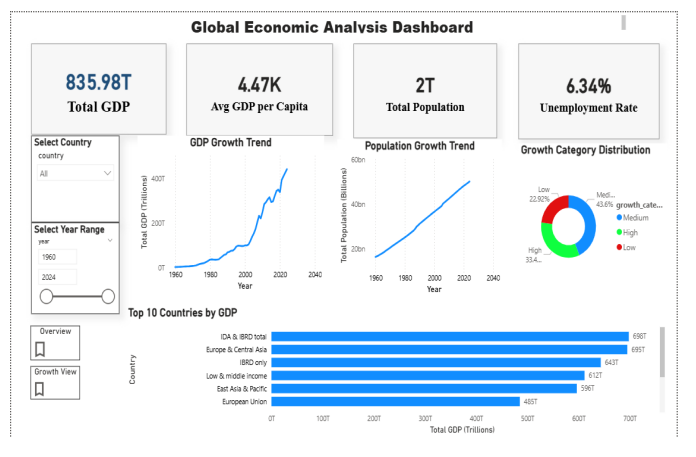

What the dashboard file says about the page in this screenshot:
{"tool":"powerbi","page":{"name":"Dashboard","canvas":[1280,720],"ordinal":1},"visuals":[{"type":"textbox","box":[56.2,0,1131.2,40],"z":0},{"type":"card","fields":{"Values":["Avg(cleaned_world_bank_data.gdp_per_capita)"]},"box":[335.9,52.6,281.7,156.3],"z":0,"group":"g1"},{"type":"group","id":"g1","title":"Group 1","box":[37.9,52.6,1206.9,161.4],"z":1000},{"type":"card","fields":{"Values":["cleaned_world_bank_data.Avg Unemployment %"]},"box":[974.6,52.6,270.9,161.7],"z":1000,"group":"g1"},{"type":"card","fields":{"Values":["Sum(cleaned_world_bank_data.population)"]},"box":[657.9,52.6,276.3,160.4],"z":2000,"group":"g1"},{"type":"lineChart","title":"GDP Growth Trend","fields":{"Category":["cleaned_world_bank_data.year"],"Y":["Sum(cleaned_world_bank_data.gdp)"]},"box":[243.3,209.1,359.5,267.8],"z":2000},{"type":"card","fields":{"Values":["Sum(cleaned_world_bank_data.gdp)"]},"box":[37.9,52.6,260.1,153.6],"z":3000,"group":"g1"},{"type":"lineChart","title":"Population Growth Trend","fields":{"Category":["cleaned_world_bank_data.year"],"Y":["Sum(cleaned_world_bank_data.population)"]},"box":[627.3,214,317.9,267.8],"z":3000},{"type":"slicer","title":"Select Country","fields":{"Values":["cleaned_world_bank_data.country"]},"box":[37.9,209.1,170,146.7],"z":4000},{"type":"clusteredBarChart","title":"Top 10 Countries by GDP","fields":{"Category":["cleaned_world_bank_data.country"],"Y":["Sum(cleaned_world_bank_data.gdp)"]},"box":[220,497.5,1042.5,222.5],"z":5000},{"type":"slicer","title":"Select Year Range","fields":{"Values":["cleaned_world_bank_data.year"]},"box":[37.9,355.8,170,154.1],"z":6000},{"type":"donutChart","title":"Growth Category Distribution","fields":{"Category":["cleaned_world_bank_data.growth_category"],"Y":["CountNonNull(cleaned_world_bank_data.country)"]},"box":[975.8,221.3,286.1,260.5],"z":7000},{"type":"actionButton","title":"Overview","box":[37.5,530,95,58.8],"z":7001},{"type":"actionButton","title":"Growth View","box":[37.5,598.8,95,56.2],"z":7002}]}

Visuals, with their boxes on the page's 1280x720 design canvas (x1, y1, x2, y2). These are canvas units, not pixel positions in the 696x457 screenshot, which may show the page scaled, cropped or inside an application window:
textbox: <box>56,0,1187,40</box>
card - Avg(cleaned_world_bank_data.gdp_per_capita): <box>336,53,618,209</box>
"Group 1" group: <box>38,53,1245,214</box>
card - cleaned_world_bank_data.Avg Unemployment %: <box>975,53,1246,214</box>
card - Sum(cleaned_world_bank_data.population): <box>658,53,934,213</box>
"GDP Growth Trend" lineChart: <box>243,209,603,477</box>
card - Sum(cleaned_world_bank_data.gdp): <box>38,53,298,206</box>
"Population Growth Trend" lineChart: <box>627,214,945,482</box>
"Select Country" slicer: <box>38,209,208,356</box>
"Top 10 Countries by GDP" clusteredBarChart: <box>220,498,1262,720</box>
"Select Year Range" slicer: <box>38,356,208,510</box>
"Growth Category Distribution" donutChart: <box>976,221,1262,482</box>
"Overview" actionButton: <box>38,530,132,589</box>
"Growth View" actionButton: <box>38,599,132,655</box>
